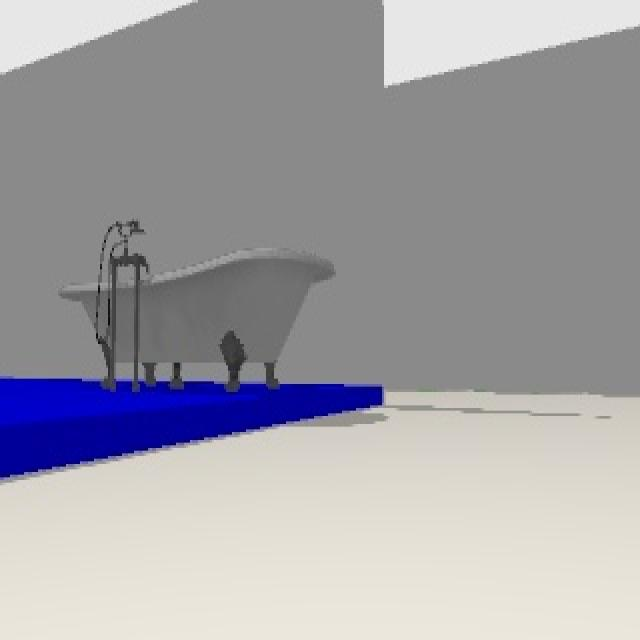bathtub: (59, 222, 339, 396)
